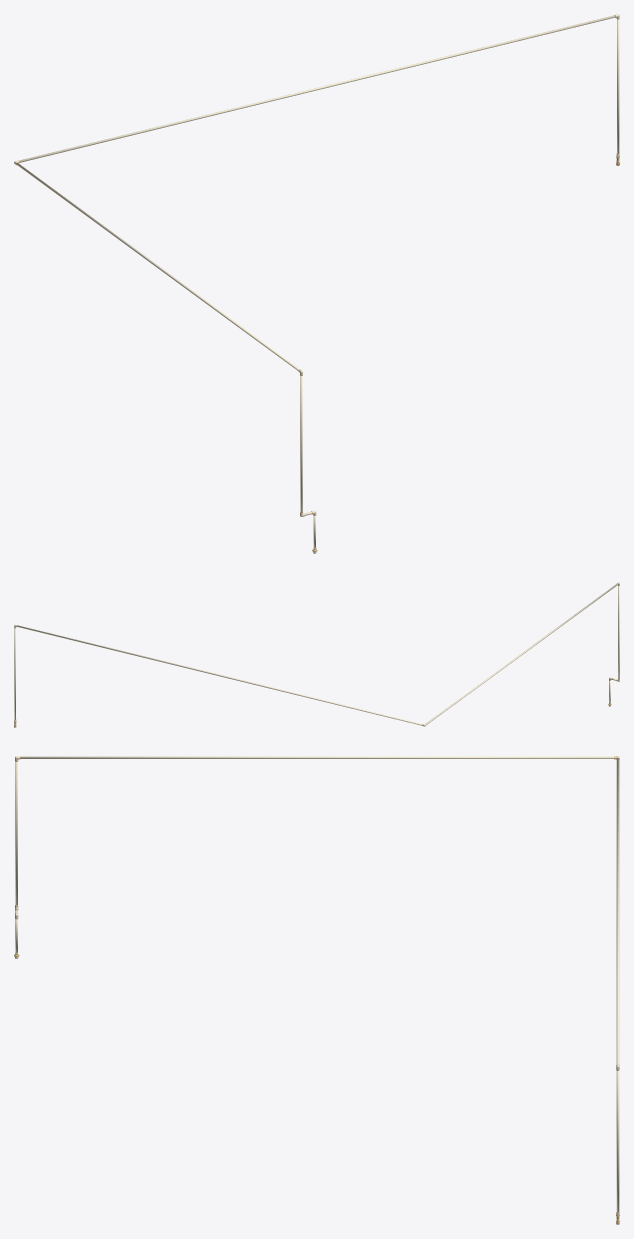
The model's file is pipes_supply__water-well_and_softener-yes_and_flowsmart-yes_and_plumbing-cpvc.glb.
The picture shows the model from 3 angles, top to bottom: view 1: azimuth 30°, elevation 25°; view 2: azimuth 150°, elevation 25°; view 3: azimuth 270°, elevation 25°; orthographic projection. The views are drawn at different scales.
Parts seen in each view (by area): view 1: pipe_supply_well_to_softener_fs; view 2: pipe_supply_well_to_softener_fs; view 3: pipe_supply_well_to_softener_fs.
Boxes of the visible parts, x1,y1,x2,y2 form: pipe_supply_well_to_softener_fs: (16,15,619,547); pipe_supply_well_to_softener_fs: (14,583,619,725); pipe_supply_well_to_softener_fs: (15,756,619,1212).
Bounding box in the file's own units: 6.45 × 1.89 × 5.32.
